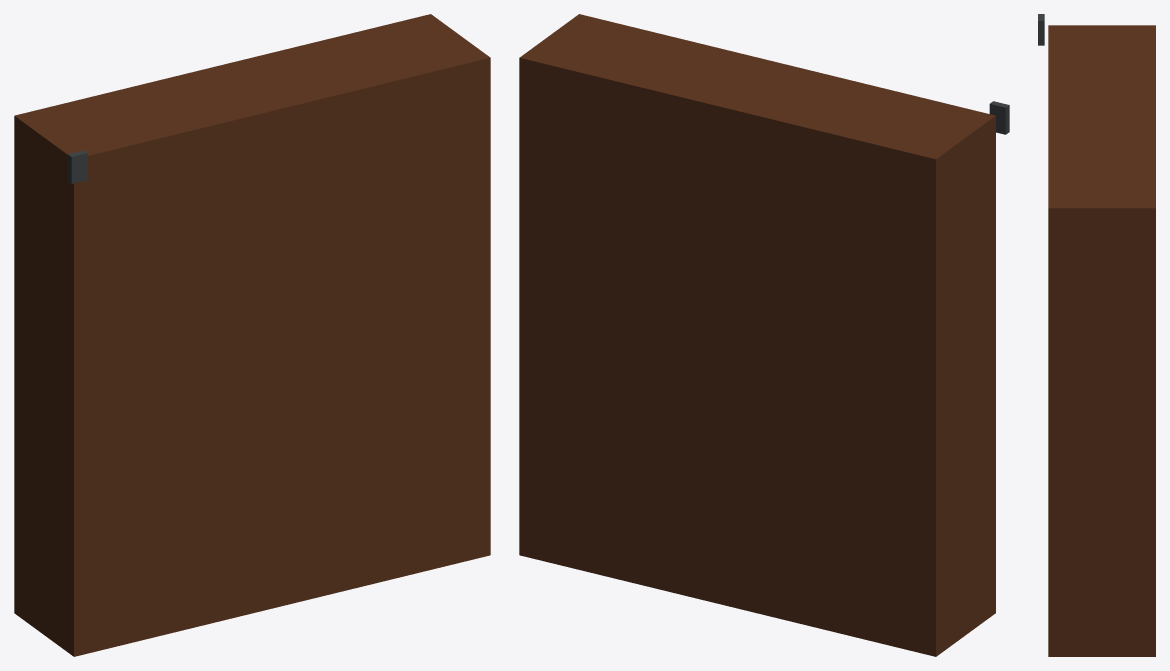
The model's file is security_gates.glb.
The picture shows the model from 3 angles, left to right: view 1: azimuth 30°, elevation 25°; view 2: azimuth 150°, elevation 25°; view 3: azimuth 270°, elevation 25°; orthographic projection. The views are drawn at different scales.
Parts seen in each view (by area): view 1: door_left; view 2: door_left; view 3: door_left.
Boxes of the visible parts, <box> form: door_left: <box>14,14,490,656</box>; door_left: <box>519,14,1009,656</box>; door_left: <box>1038,14,1155,656</box>.
Bounding box in the file's own units: 1.31 × 1.5 × 0.35.
1 material, 1 textured.
